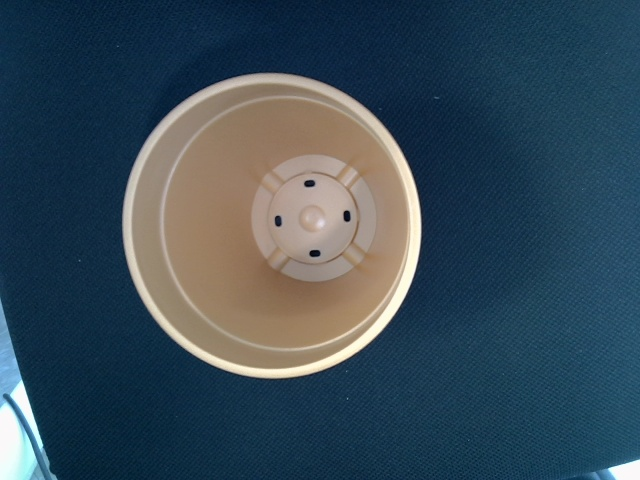화분: (120, 69, 424, 378)
